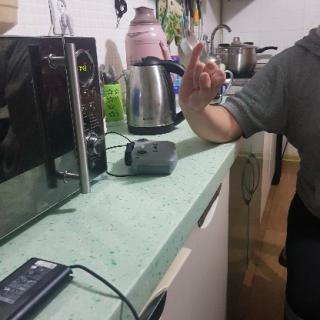MEEM: (176, 40, 223, 116)
